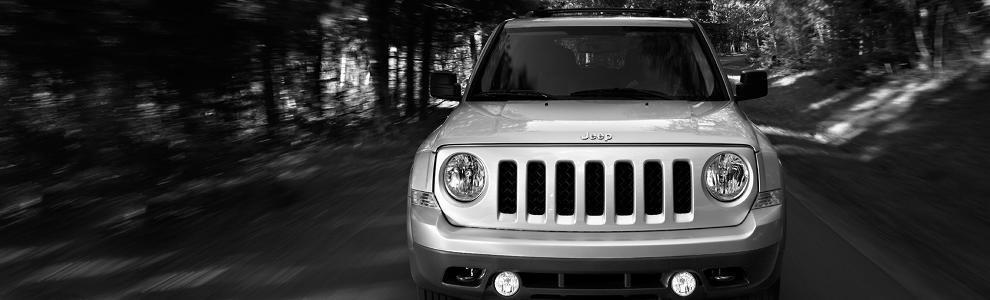car: (410, 20, 794, 300)
